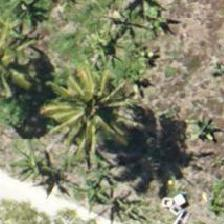coconut_tree: (45, 60, 135, 150)
